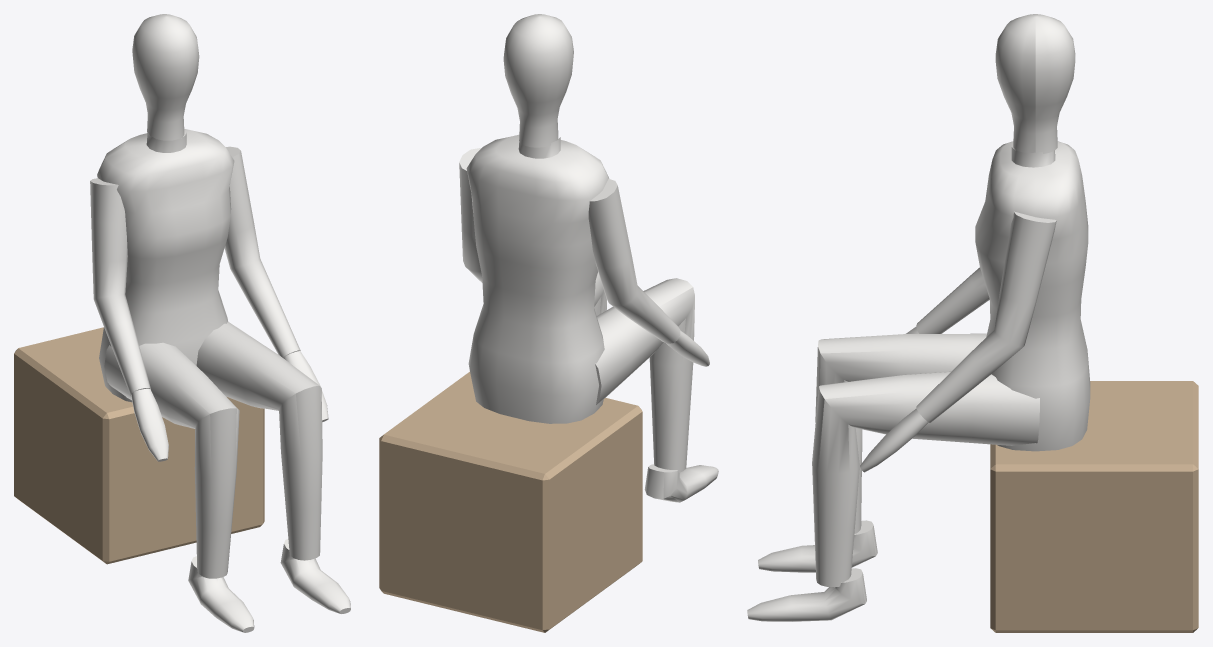
File: mannequin.glb
3 views of the same model, side by side, from view 1: azimuth 30°, elevation 25°; view 2: azimuth 150°, elevation 25°; view 3: azimuth 270°, elevation 25° (orthographic). The views are drawn at different scales.
Visible parts, largest first — view 1: mannequin-seated; view 2: mannequin-seated; view 3: mannequin-seated.
Part boxes in pixels (bbox=[...]): mannequin-seated: bbox=[14, 14, 350, 632]; mannequin-seated: bbox=[379, 14, 718, 632]; mannequin-seated: bbox=[747, 14, 1198, 632].
Bounding box in the file's own units: 0.5112 × 1.4 × 0.9961.
